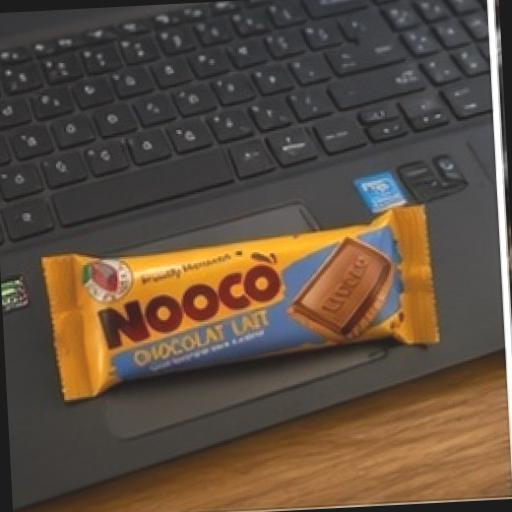biscuit-detection: (35, 178, 473, 436)
